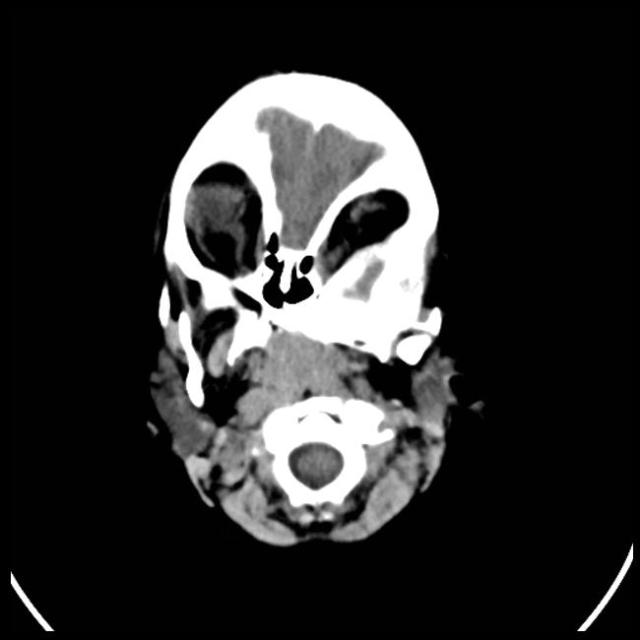lesion: (140, 67, 473, 551)
